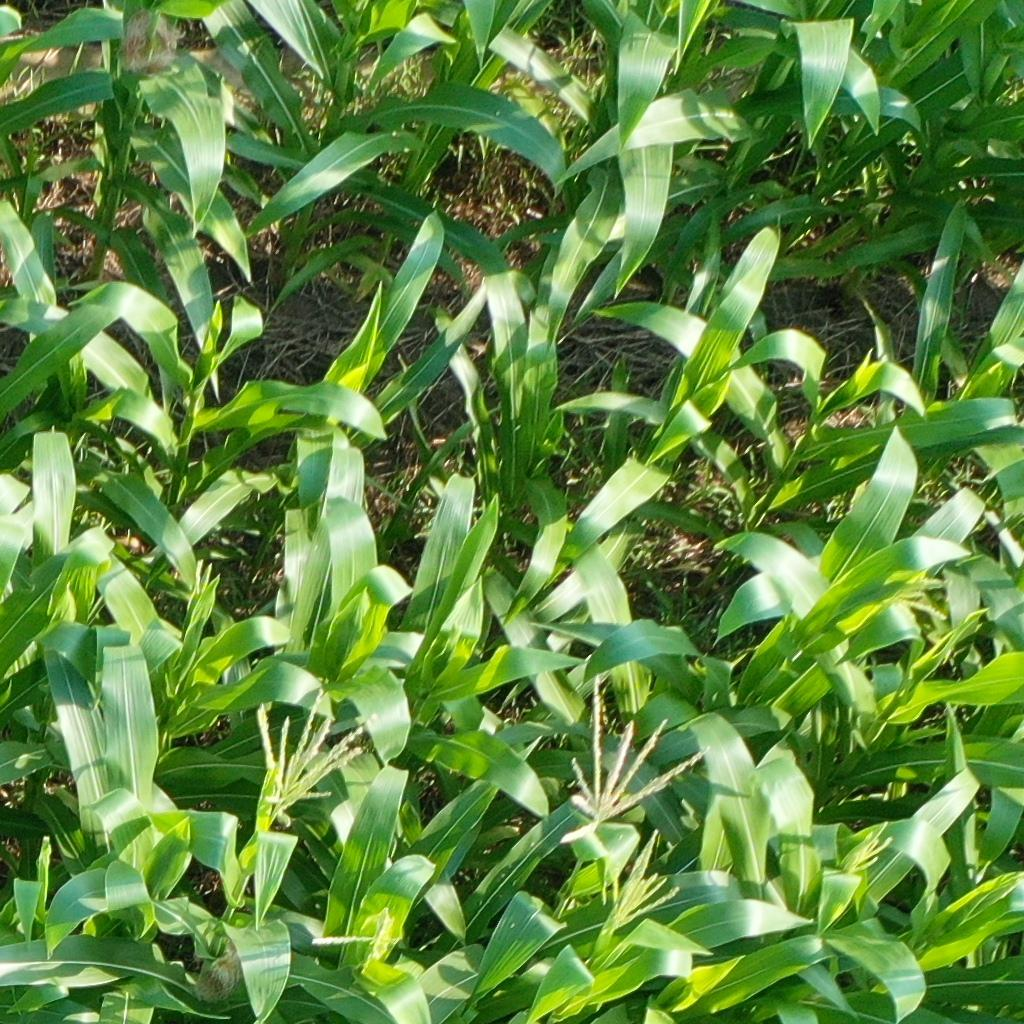Tassel: (545, 670, 713, 847), (248, 682, 379, 823), (607, 827, 679, 934), (306, 902, 405, 969), (884, 570, 958, 621), (838, 822, 888, 877), (192, 558, 222, 599)
